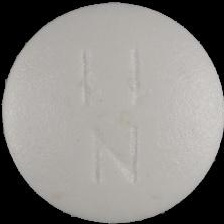0093-2931: (0, 0, 224, 224)
